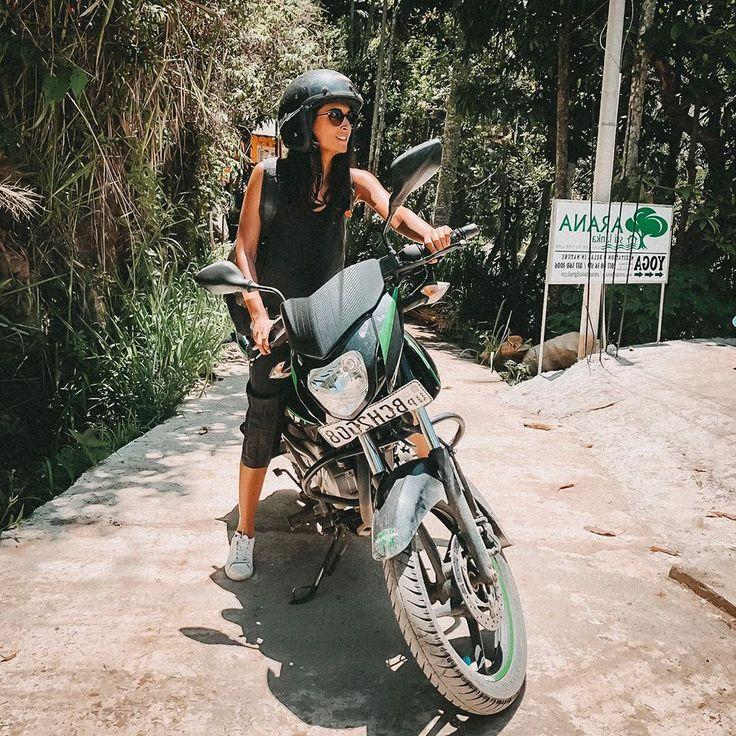motorbike: (191, 139, 528, 716)
